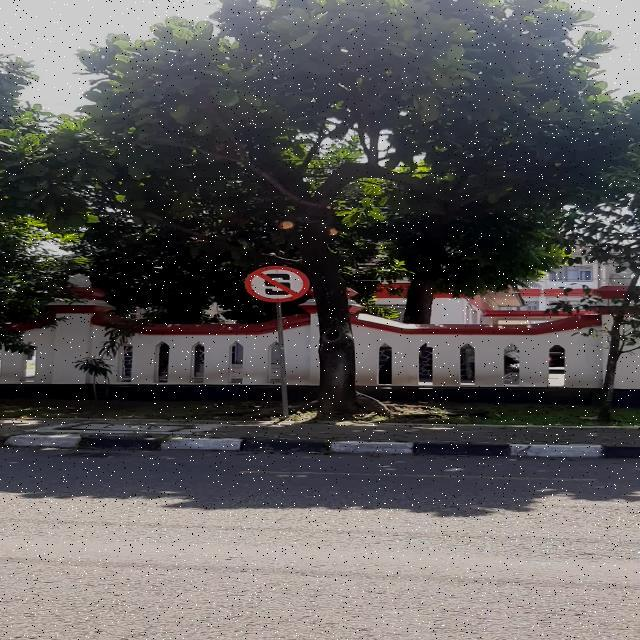Dilarang Berhenti: (244, 266, 310, 302)
